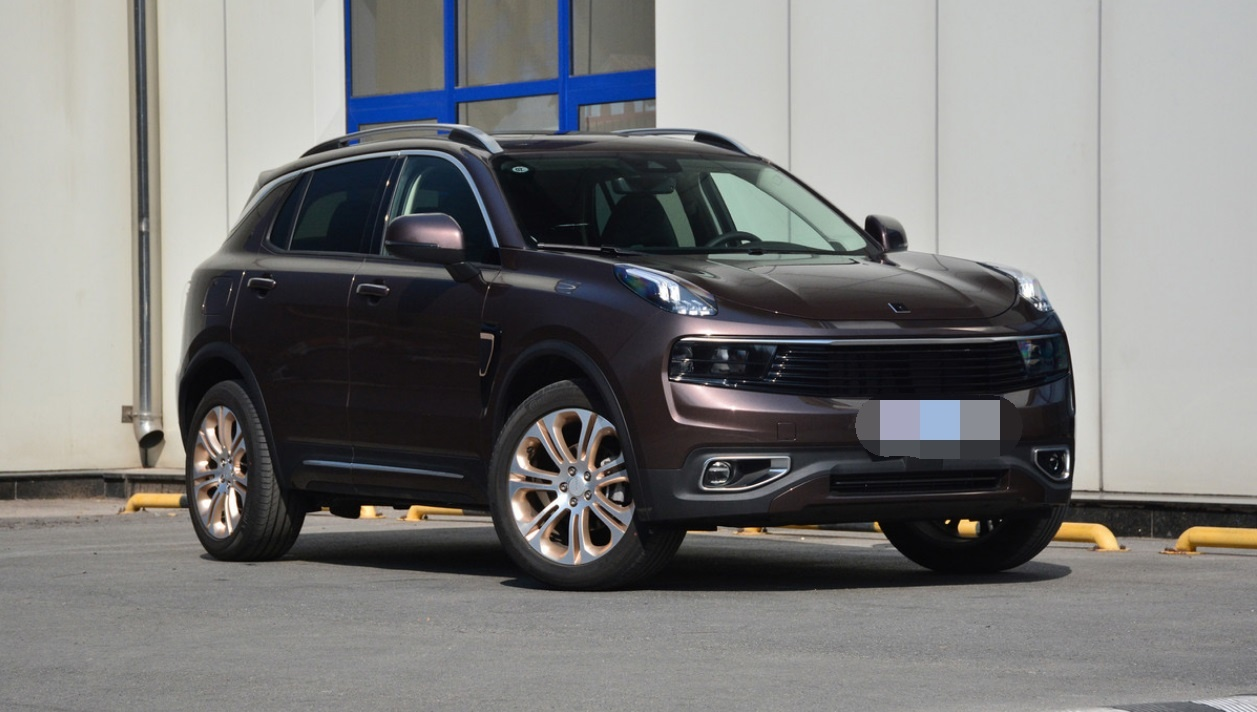SUV: (172, 122, 1075, 592)
